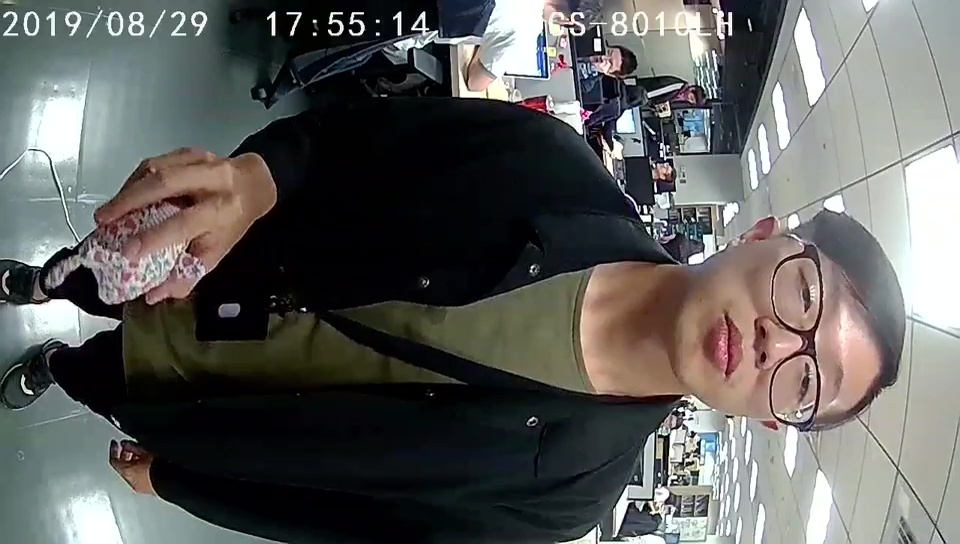pig: (90, 202, 205, 305)
